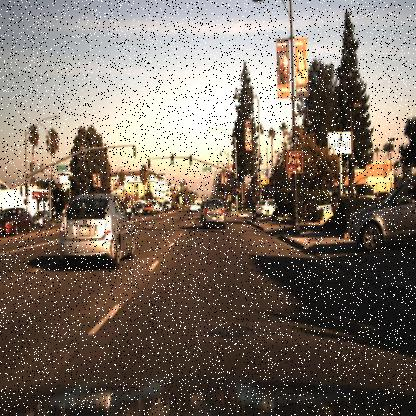car: (56, 186, 136, 268), (349, 175, 415, 252), (200, 194, 228, 230), (254, 197, 281, 220), (31, 210, 53, 231), (188, 198, 200, 216)
trafficLight: (147, 156, 153, 171)
trafficLight-Green: (242, 167, 249, 185), (168, 152, 176, 167), (189, 148, 195, 166)
